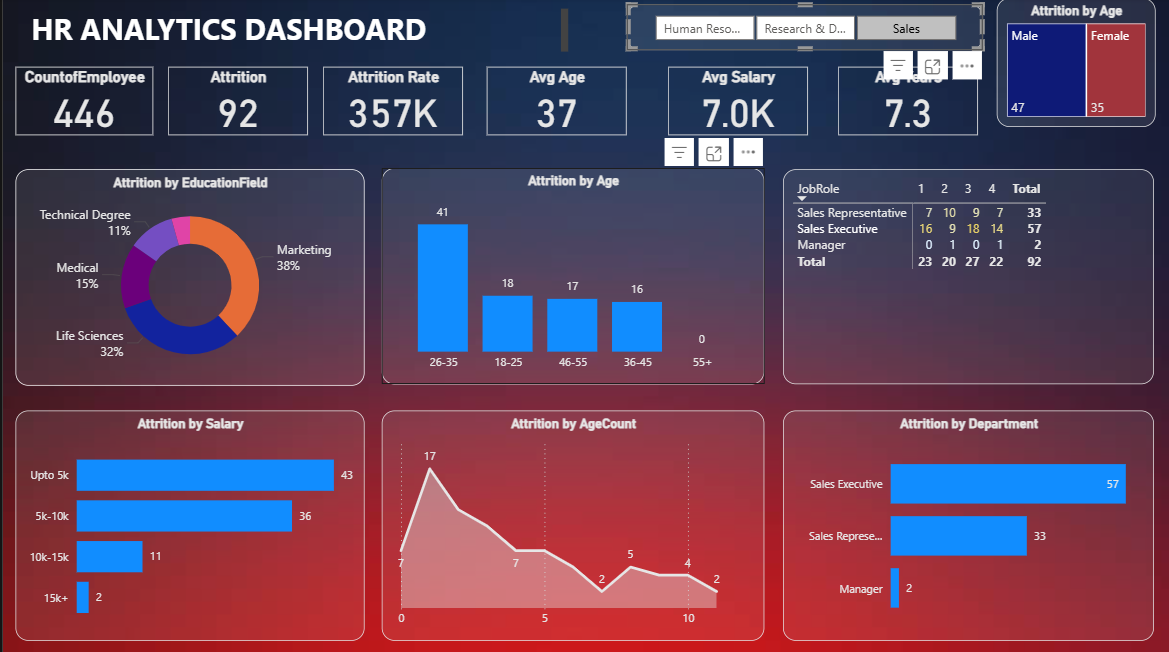

The page's visual inventory and layout, read from the dashboard file:
{"tool":"powerbi","page":{"name":"Page 1","canvas":[1280,720],"ordinal":0},"visuals":[{"type":"card","title":"CountofEmployee","fields":{"Values":["CountNonNull(HR_Analytics.EmpID)"]},"box":[13.7,75.5,150.9,75.5],"z":0},{"type":"card","title":"Attrition Rate","fields":{"Values":["Sum(HR_Analytics.DailyRate)"]},"box":[351.3,75.5,153.7,75.5],"z":1000},{"type":"card","title":"Attrition","fields":{"Values":["Sum(HR_Analytics.AttritionCount)"]},"box":[181.1,75.5,153.7,75.5],"z":2000},{"type":"card","title":"Avg Age","fields":{"Values":["Avg(HR_Analytics.Age)"]},"box":[531,75.5,153.7,75.5],"z":3000},{"type":"card","title":"Avg Salary","fields":{"Values":["Avg(HR_Analytics.MonthlyIncome)"]},"box":[730,75.5,153.7,75.5],"z":4000},{"type":"card","title":"Avg Years","fields":{"Values":["Avg(HR_Analytics.YearsAtCompany)"]},"box":[916.6,75.5,153.7,75.5],"z":5000},{"type":"donutChart","title":"Attrition by EducationField","fields":{"Category":["HR_Analytics.EducationField"],"Y":["Sum(HR_Analytics.AttritionCount)"]},"box":[13.7,188,382.8,237.4],"z":6000},{"type":"columnChart","title":"Attrition by Age","fields":{"Category":["HR_Analytics.AgeGroup"],"Y":["Sum(HR_Analytics.AttritionCount)"]},"box":[415.8,186.6,419.9,237.4],"z":7000},{"type":"pivotTable","fields":{"Rows":["HR_Analytics.JobRole"],"Columns":["HR_Analytics.JobSatisfaction"],"Values":["Sum(HR_Analytics.AttritionCount)"]},"box":[856.3,188,407.5,236],"z":8000},{"type":"barChart","title":"Attrition by Salary","fields":{"Category":["HR_Analytics.SalarySlab"],"Y":["Sum(HR_Analytics.AttritionCount)"]},"box":[13.7,452.8,382.8,252.5],"z":9000},{"type":"barChart","title":"Attrition by Department","fields":{"Category":["HR_Analytics.JobRole"],"Y":["Sum(HR_Analytics.AttritionCount)"]},"box":[856.3,452.8,407.5,252.5],"z":9001},{"type":"areaChart","title":"Attrition by AgeCount","fields":{"Category":["HR_Analytics.YearsAtCompany"],"Y":["Sum(HR_Analytics.AttritionCount)"]},"box":[415.8,452.8,419.9,252.5],"z":9002},{"type":"treemap","title":"Attrition by Age","fields":{"Group":["HR_Analytics.Gender"],"Values":["Sum(HR_Analytics.AttritionCount)"]},"box":[1090.9,0,174.3,141.3],"z":9003},{"type":"slicer","fields":{"Values":["HR_Analytics.Department"]},"box":[684.7,6.9,391.1,50.8],"z":9004},{"type":"textbox","box":[26.1,6.9,599.7,63.1],"z":9005}]}

Visuals, with their boxes in screenshot pixels (x1, y1, x2, y2), scaled from the page's 1280x720 canvas onto the 1169x652 screenshot:
"CountofEmployee" card: bbox=(13, 68, 150, 137)
"Attrition Rate" card: bbox=(321, 68, 461, 137)
"Attrition" card: bbox=(165, 68, 306, 137)
"Avg Age" card: bbox=(485, 68, 625, 137)
"Avg Salary" card: bbox=(667, 68, 807, 137)
"Avg Years" card: bbox=(837, 68, 977, 137)
"Attrition by EducationField" donutChart: bbox=(13, 170, 362, 385)
"Attrition by Age" columnChart: bbox=(380, 169, 763, 384)
pivotTable - HR_Analytics.JobRole x HR_Analytics.JobSatisfaction: bbox=(782, 170, 1154, 384)
"Attrition by Salary" barChart: bbox=(13, 410, 362, 639)
"Attrition by Department" barChart: bbox=(782, 410, 1154, 639)
"Attrition by AgeCount" areaChart: bbox=(380, 410, 763, 639)
"Attrition by Age" treemap: bbox=(996, 0, 1155, 128)
slicer - HR_Analytics.Department: bbox=(625, 6, 983, 52)
textbox: bbox=(24, 6, 572, 63)
